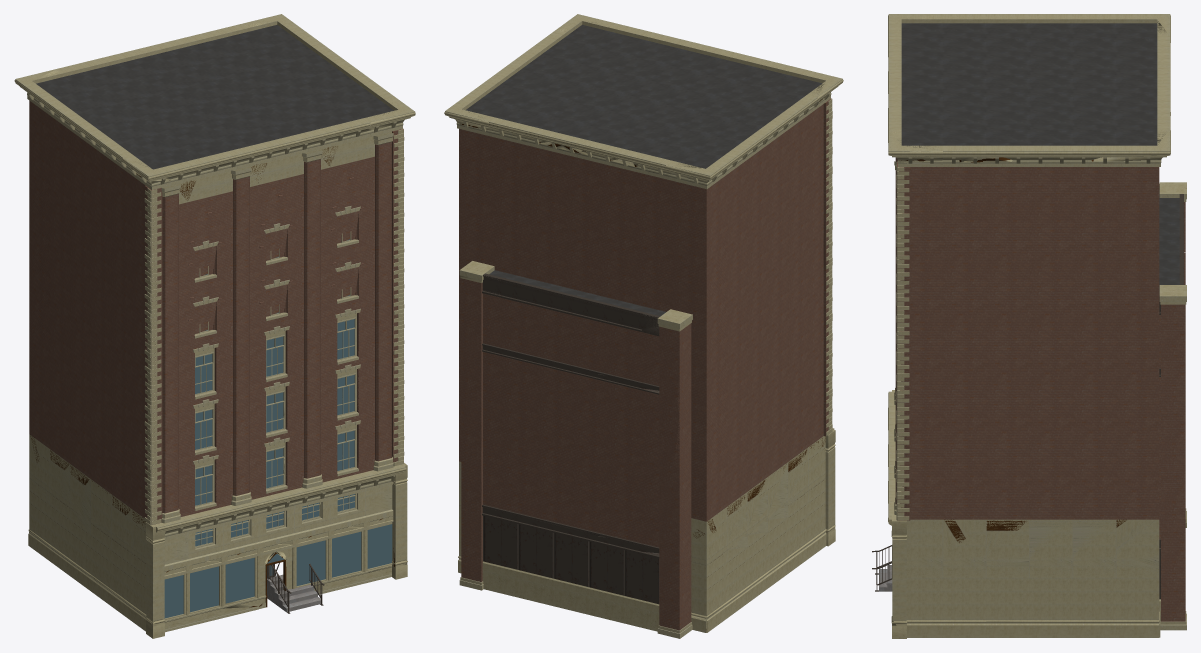
The model's file is city.glb.
3 renders of one model, left to right at view 1: azimuth 30°, elevation 25°; view 2: azimuth 150°, elevation 25°; view 3: azimuth 270°, elevation 25°, orthographic. The views are drawn at different scales.
Visible parts, largest first — view 1: corner_block, corner_block_lod, brick_block; view 2: corner_block, brick_block, corner_block_lod, brick_block_lod; view 3: corner_block, corner_block_lod, brick_block, brick_block_lod.
Boxes of the visible parts, x1,y1,x2,y2 form: corner_block: [14, 14, 415, 638]; corner_block_lod: [18, 15, 415, 629]; brick_block: [267, 564, 324, 613]; corner_block: [444, 14, 843, 632]; brick_block: [459, 261, 692, 638]; corner_block_lod: [445, 14, 842, 630]; brick_block_lod: [460, 262, 691, 603]; corner_block: [888, 14, 1170, 638]; corner_block_lod: [888, 14, 1170, 625]; brick_block: [872, 182, 1186, 630]; brick_block_lod: [877, 182, 1186, 599].
Bounding box in the file's own units: 15.06 × 25.01 × 14.54.
9 materials, 8 textured.
